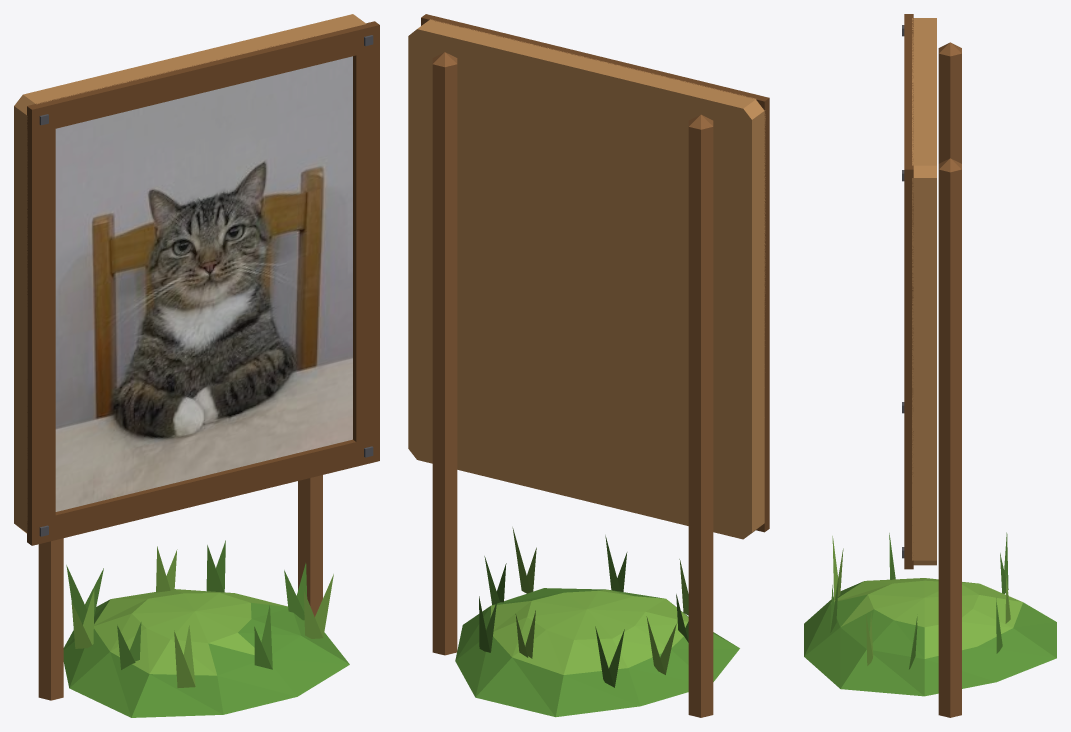
The model's file is gato-juzgando.glb.
3 renders of one model, left to right at view 1: azimuth 30°, elevation 25°; view 2: azimuth 150°, elevation 25°; view 3: azimuth 270°, elevation 25°, orthographic. The views are drawn at different scales.
Visible parts, largest first — view 1: cartel-foto; view 2: cartel-foto; view 3: cartel-foto.
Part boxes in pixels (left/top/right/bottom): cartel-foto: left=14, top=14, right=379, bottom=717; cartel-foto: left=408, top=14, right=769, bottom=717; cartel-foto: left=804, top=14, right=1056, bottom=717.
Size of the model in its own units: 0.2354 by 0.397 by 0.1655.
8 materials, 1 textured.
